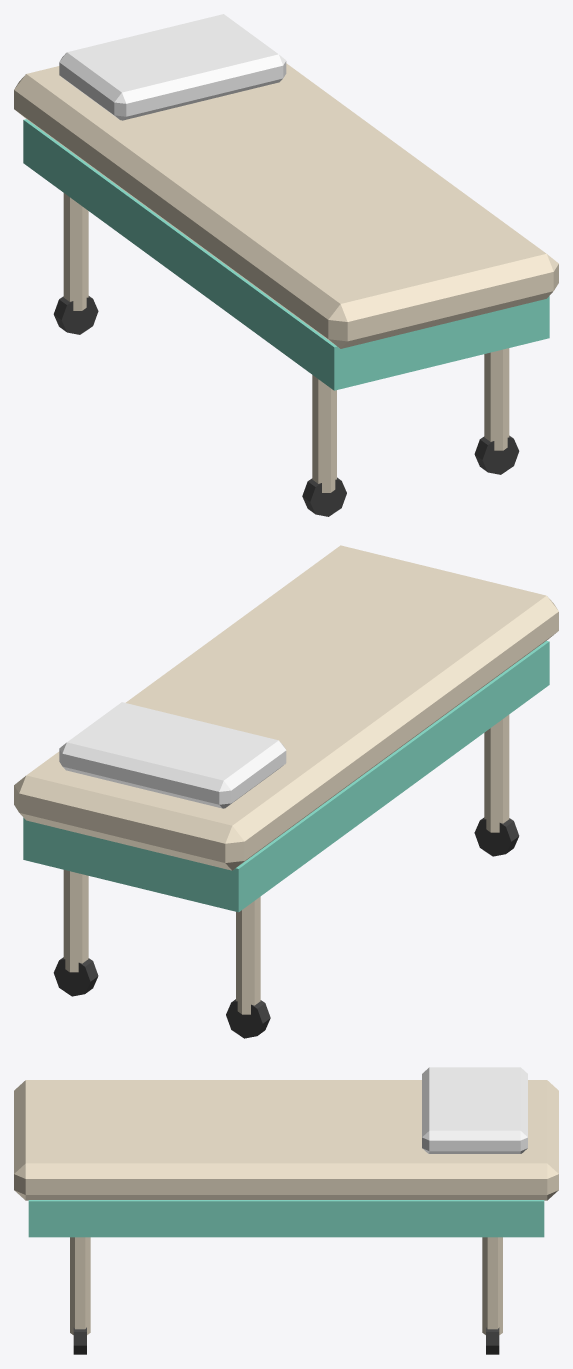
3 views of the same model, one above another, from view 1: azimuth 30°, elevation 25°; view 2: azimuth 150°, elevation 25°; view 3: azimuth 270°, elevation 25° (orthographic). The views are drawn at different scales.
Parts seen in each view (by area): view 1: Mattress, Base, Pillow, Mattress support, Leg.001, Leg, Leg.002, Wheel.002, Wheel.001, Wheel; view 2: Mattress, Base, Pillow, Mattress support, Leg, Leg.001, Leg.003, Wheel, Wheel.003, Wheel.001; view 3: Mattress, Base, Pillow, Mattress support, Leg.002, Leg.003, Wheel.002, Wheel.003.
Part boxes in pixels (x1,y1,x2,y2): Mattress: (14,63,558,348); Base: (23,131,549,390); Pillow: (59,14,286,120); Mattress support: (23,119,549,359); Leg.001: (63,193,88,310); Leg: (312,375,336,492); Leg.002: (484,348,509,450); Wheel.002: (474,435,519,474); Wheel.001: (53,296,98,334); Wheel: (302,477,346,516); Mattress: (14,545,558,870); Base: (23,653,549,912); Pillow: (59,702,286,808); Mattress support: (23,641,549,880); Leg: (484,715,509,832); Leg.001: (236,896,260,1014); Leg.003: (63,870,88,972); Wheel: (474,817,519,856); Wheel.003: (53,957,98,996); Wheel.001: (226,999,270,1038); Mattress: (14,1080,558,1200); Base: (28,1210,544,1237); Pillow: (422,1067,527,1153); Mattress support: (28,1200,544,1211); Leg.002: (70,1237,90,1334); Leg.003: (482,1237,502,1334); Wheel.002: (73,1327,86,1354); Wheel.003: (486,1327,499,1354).
Bounding box in the file's own units: 0.75 × 0.825 × 1.85.
1 material, 1 textured.
